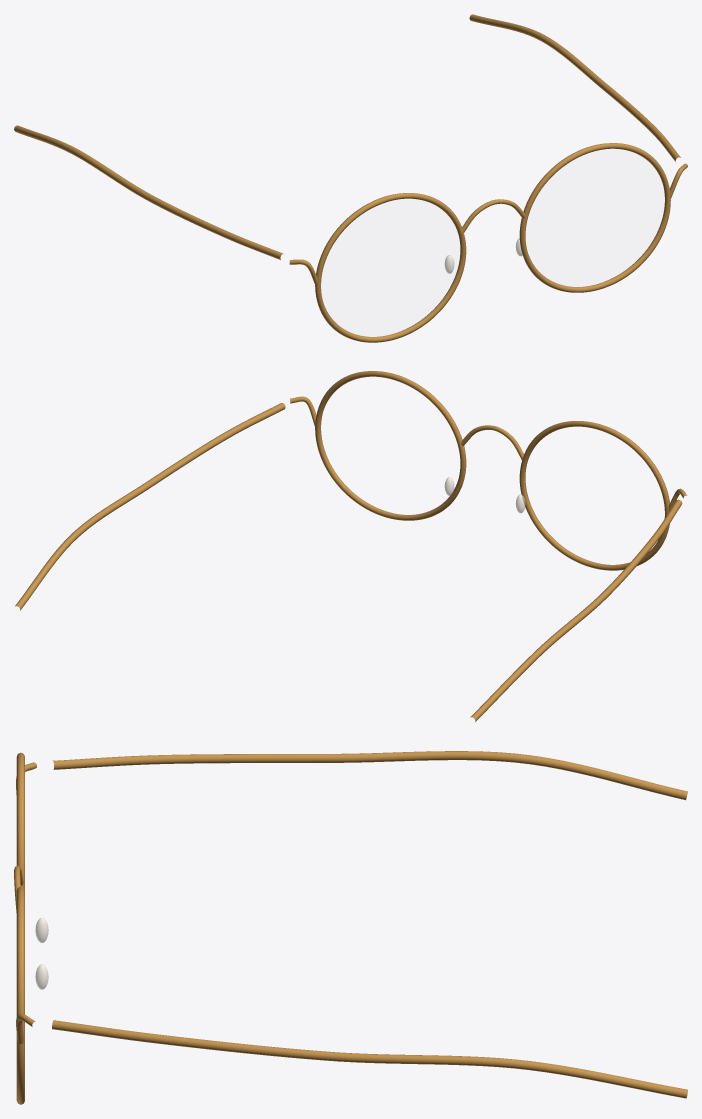
Rendered from aurora-round.glb.
The picture shows the model from 3 angles, top to bottom: view 1: azimuth 30°, elevation 25°; view 2: azimuth 150°, elevation 25°; view 3: azimuth 270°, elevation 25°; orthographic projection. The views are drawn at different scales.
Parts seen in each view (by area): view 1: rim_left, rim_right, temple_right, temple_left; view 2: rim_left, rim_right, temple_left, temple_right; view 3: temple_left, temple_right, rim_left, rim_right.
Boxes of the visible parts, x1=… form: rim_left: x1=519, y1=143, x2=670, y2=292; rim_right: x1=315, y1=193, x2=466, y2=342; temple_right: x1=14, y1=125, x2=283, y2=259; temple_left: x1=469, y1=14, x2=680, y2=161; rim_left: x1=315, y1=371, x2=466, y2=520; rim_right: x1=519, y1=421, x2=669, y2=570; temple_left: x1=15, y1=403, x2=285, y2=610; temple_right: x1=470, y1=499, x2=682, y2=721; temple_left: x1=52, y1=1020, x2=687, y2=1098; temple_right: x1=53, y1=751, x2=687, y2=800; rim_left: x1=16, y1=886, x2=24, y2=1104; rim_right: x1=16, y1=752, x2=24, y2=889.
Bounding box in the file's own units: 0.1597 × 0.0468 × 0.1467.
